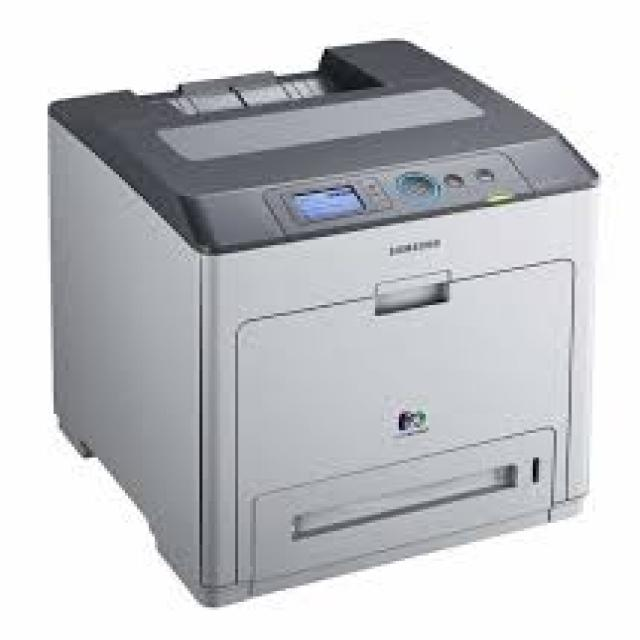printer: (49, 34, 603, 610)
